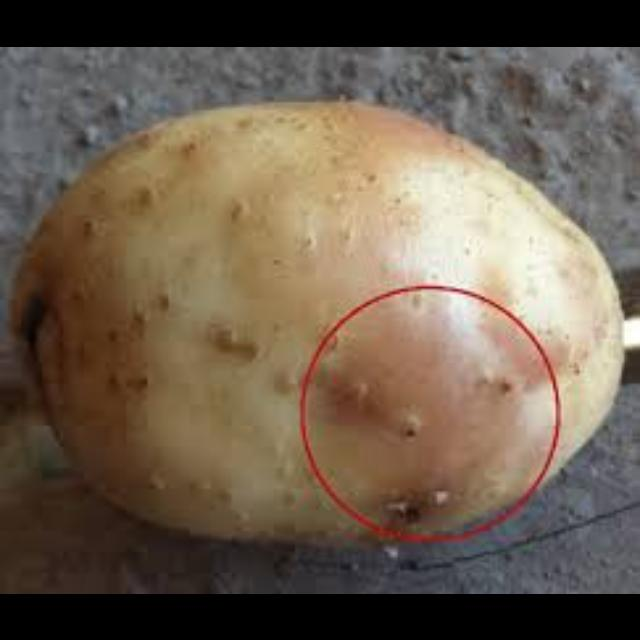Diseased-fungal potato: (39, 92, 632, 558)
